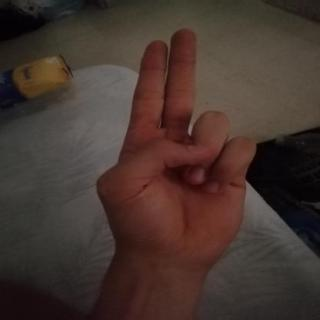TA: (80, 18, 270, 280)
